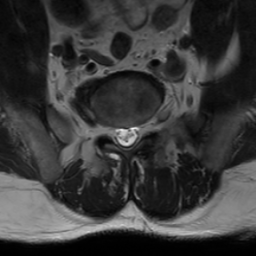CCS_normal: (121, 120, 130, 155)
LFS_normal: (141, 111, 151, 145)
LLS_normal: (130, 118, 141, 151)
RFS_normal: (103, 114, 113, 146)
RLS_normal: (113, 118, 121, 152)
